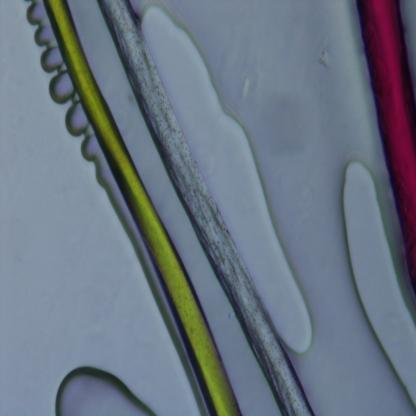Air bubble: (141, 5, 314, 353), (340, 151, 416, 408), (53, 361, 155, 415), (47, 72, 74, 105), (65, 104, 90, 138), (39, 48, 63, 72), (82, 136, 100, 164), (26, 1, 46, 26), (36, 25, 52, 50)
Background material: (314, 49, 330, 71)
Microfibre: (100, 1, 313, 415), (44, 0, 242, 415), (353, 0, 416, 295)
